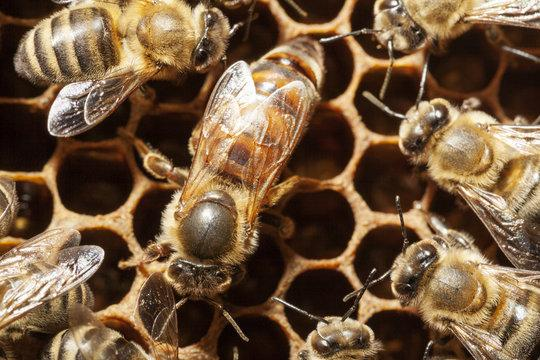Queen-Bee: (135, 36, 324, 299)
worker-bee: (363, 92, 539, 269), (16, 0, 232, 135), (389, 216, 539, 359)
